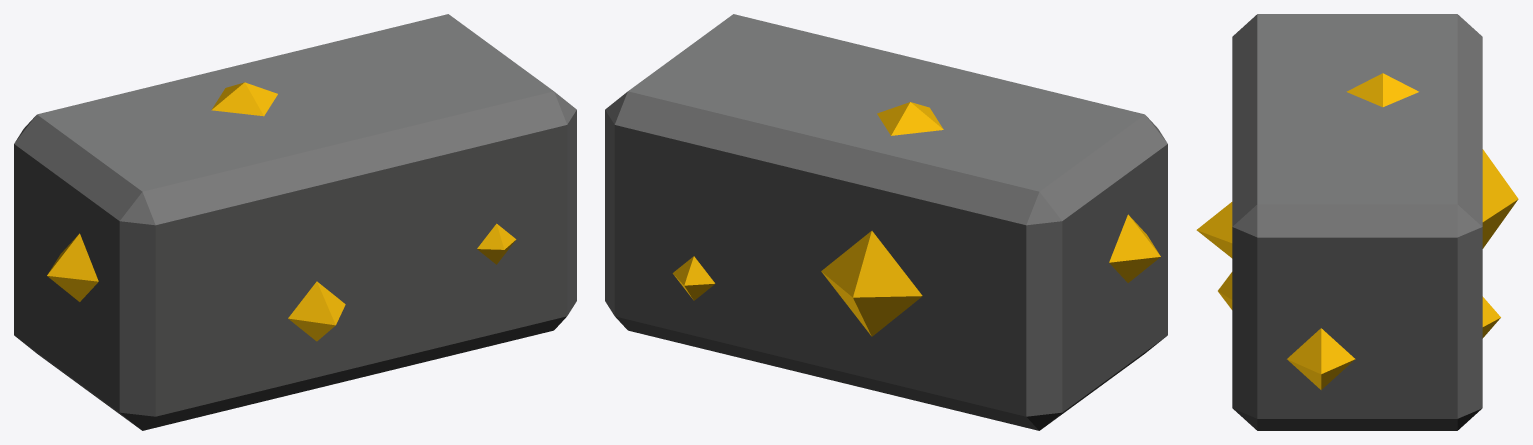
File: m_kub_ore_brick.FBX
The picture shows the model from 3 angles, left to right: view 1: azimuth 30°, elevation 25°; view 2: azimuth 150°, elevation 25°; view 3: azimuth 270°, elevation 25°; orthographic projection. The views are drawn at different scales.
Parts seen in each view (by area): view 1: m_kub_ore_brick; view 2: m_kub_ore_brick; view 3: m_kub_ore_brick.
Boxes of the visible parts, x1,y1,x2,y2 form: m_kub_ore_brick: [14, 14, 576, 430]; m_kub_ore_brick: [605, 14, 1167, 430]; m_kub_ore_brick: [1196, 14, 1518, 430].
Size of the model in its own units: 2.29 by 1.08 by 1.29.
